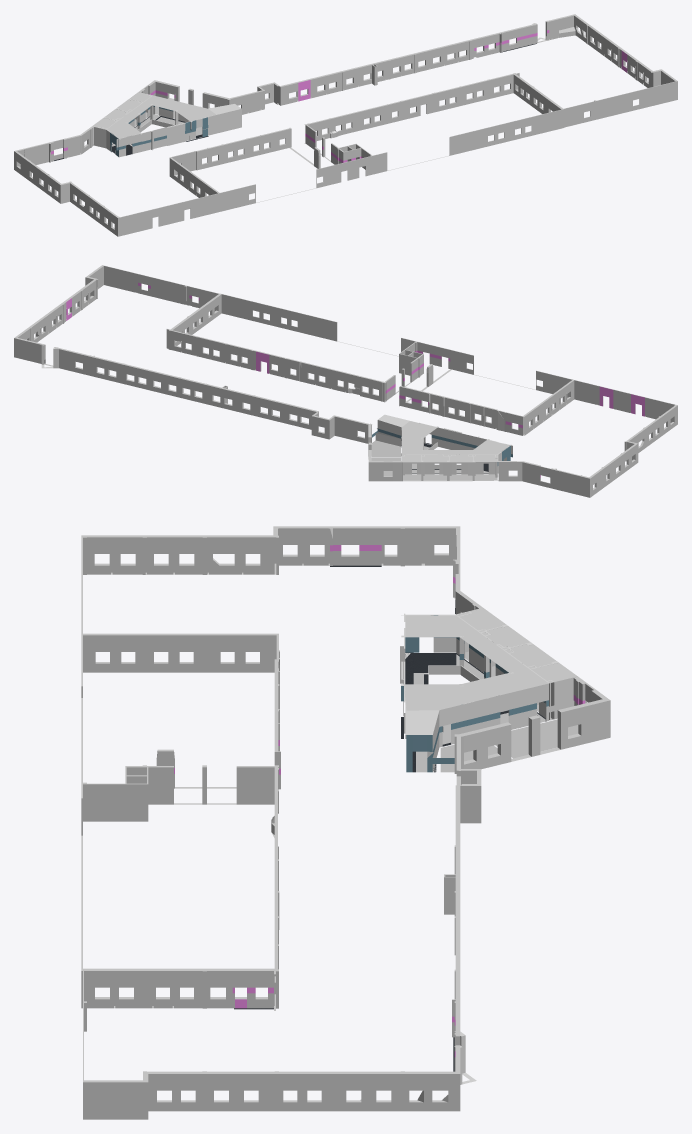
File: HallPerimeter.fbx
3 renders of one model, top to bottom at view 1: azimuth 30°, elevation 25°; view 2: azimuth 150°, elevation 25°; view 3: azimuth 270°, elevation 25°, orthographic. The views are drawn at different scales.
Parts seen in each view (by area): view 1: Plane; view 2: Plane; view 3: Plane.
Boxes of the visible parts, x1,y1,x2,y2 form: Plane: (14, 14, 677, 236); Plane: (14, 265, 677, 497); Plane: (81, 526, 610, 1119).
Size of the model in its own units: 13404 by 423 by 5391.
